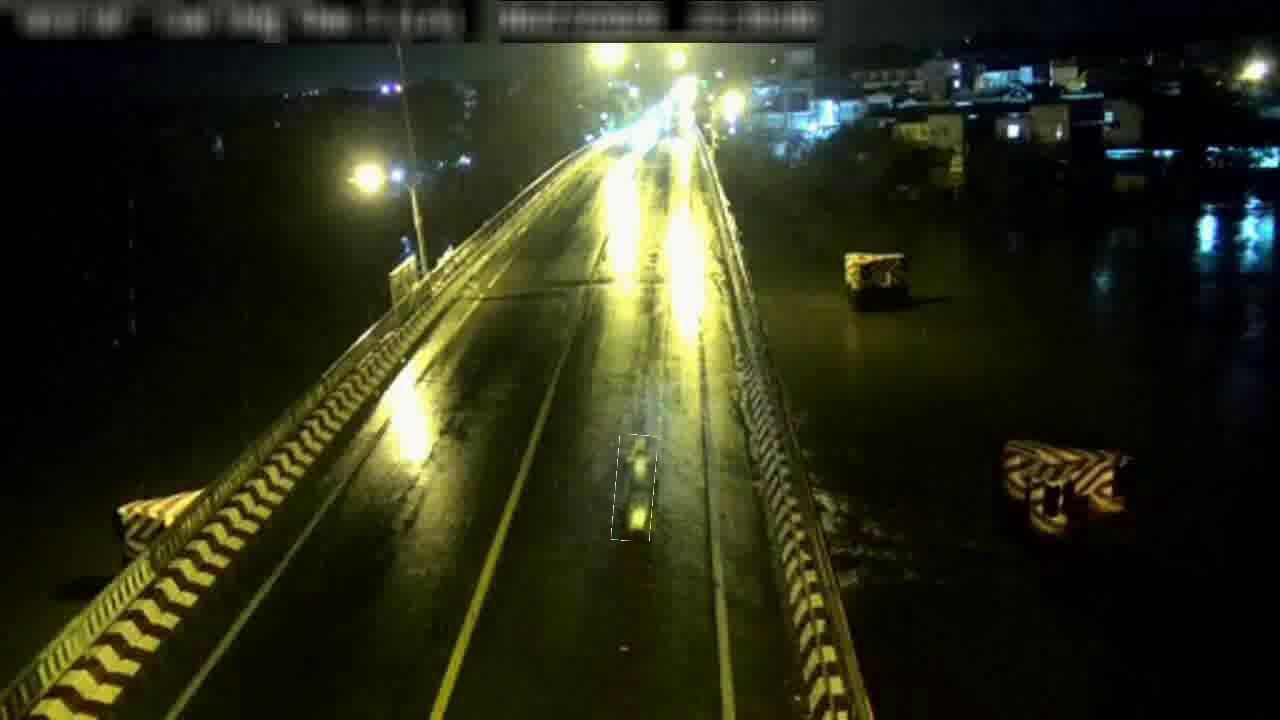motorbike: (614, 434, 656, 542)
